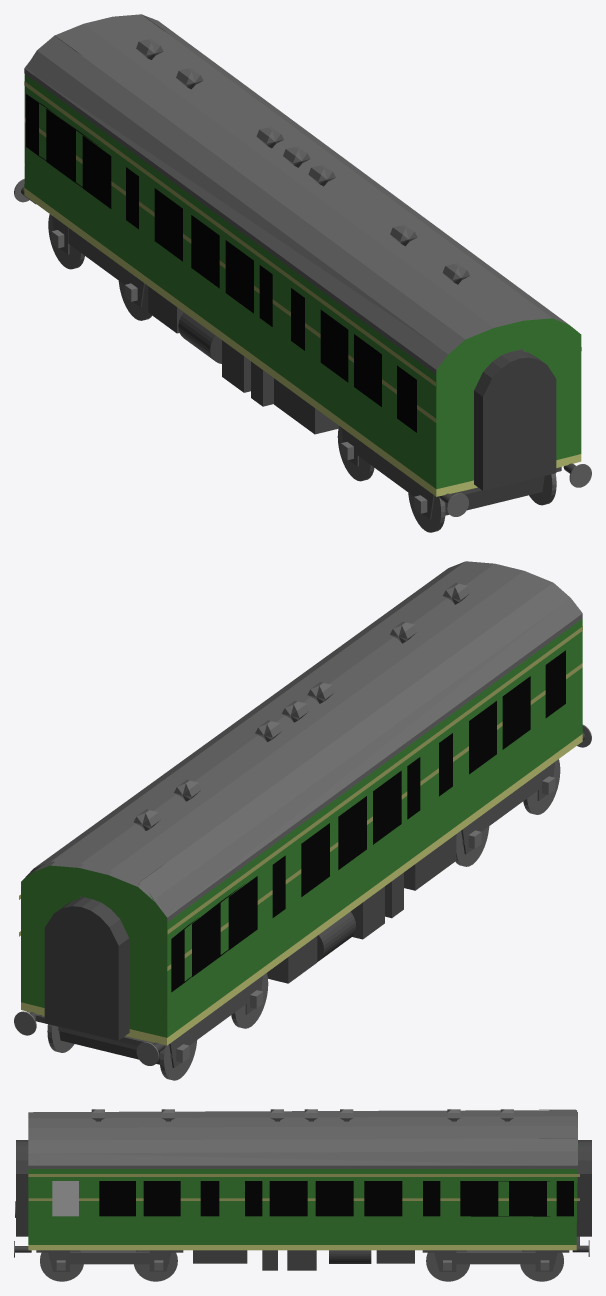
File: BR-101-tsl-g.dae
The picture shows the model from 3 angles, top to bottom: view 1: azimuth 30°, elevation 25°; view 2: azimuth 150°, elevation 25°; view 3: azimuth 270°, elevation 25°; orthographic projection. The views are drawn at different scales.
Visible parts, largest first — view 1: BR-cl101-front_rear, Cube, Plane_003, Cube_060_001, Cube_001, Cube_043_001, Cube_043, Cylinder_002, Cube_003, Cube_004, Cube_002, Cylinder_011_001 (+1 smaller); view 2: BR-cl101-front_rear, Cube_005, Plane_003, Cube_043, Cube_001, Cube_043_001, Cube_004, Cube_003, Cube_061, Cylinder_002, Plane_002, Cylinder_010 (+1 smaller); view 3: BR-cl101-front_rear, Plane_004, Cube_005, Cube_043, Cube_043_001, Cube, Cube_001, Cube_003, Cylinder_009_001, Cylinder_008, Cylinder_009, Cylinder_008_001 (+6 smaller).
Part boxes in pixels (x1,y1,x2,y2): BR-cl101-front_rear: (24,14,581,496); Cube: (474,351,556,490); Plane_003: (24,81,435,386); Cube_060_001: (422,467,561,519); Cube_001: (274,378,338,434); Cube_043_001: (357,439,431,508); Cube_043: (68,228,141,296); Cylinder_002: (178,312,221,363); Cube_003: (222,340,250,392); Cube_004: (148,286,183,333); Cube_002: (251,361,273,406); Cylinder_011_001: (408,493,445,532); BR-cl101-front_rear: (21,561,582,1045); Cube_005: (44,896,129,1040); Plane_003: (167,626,582,933); Cube_043: (58,977,260,1058); Cube_001: (404,834,456,890); Cube_043_001: (462,764,552,844); Cube_004: (167,923,317,983); Cube_003: (351,886,384,939); Cube_061: (59,1017,186,1067); Cylinder_002: (317,911,355,961); Plane_002: (167,663,582,970); Cylinder_010: (159,1040,197,1080); BR-cl101-front_rear: (28,1109,579,1250); Plane_004: (28,1174,579,1176); Cube_005: (576,1140,591,1236); Cube_043: (456,1250,555,1264); Cube_043_001: (70,1250,169,1264); Cube: (16,1140,28,1236); Cube_001: (193,1250,247,1263); Cube_003: (287,1250,316,1270); Cylinder_009_001: (134,1250,177,1281); Cylinder_008: (426,1250,469,1281); Cylinder_009: (520,1250,563,1281); Cylinder_008_001: (40,1250,83,1281).
Bounding box in the file's own units: 2.04 × 10.35 × 3.05.
